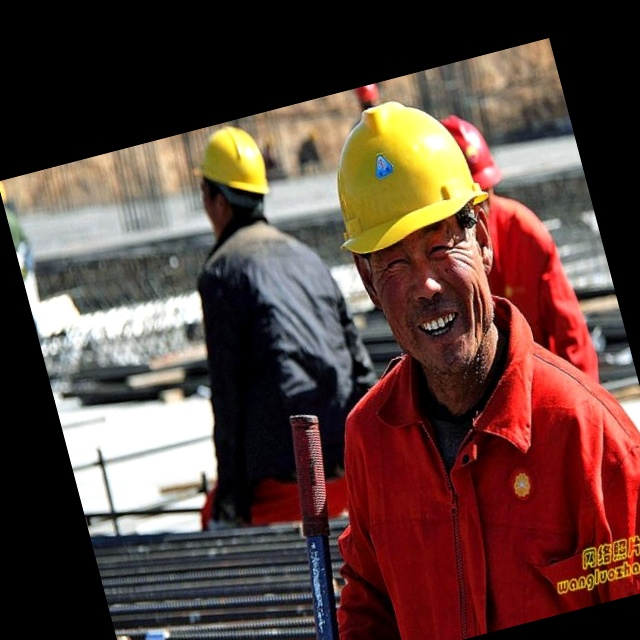Con_Casco: (309, 84, 523, 402)
